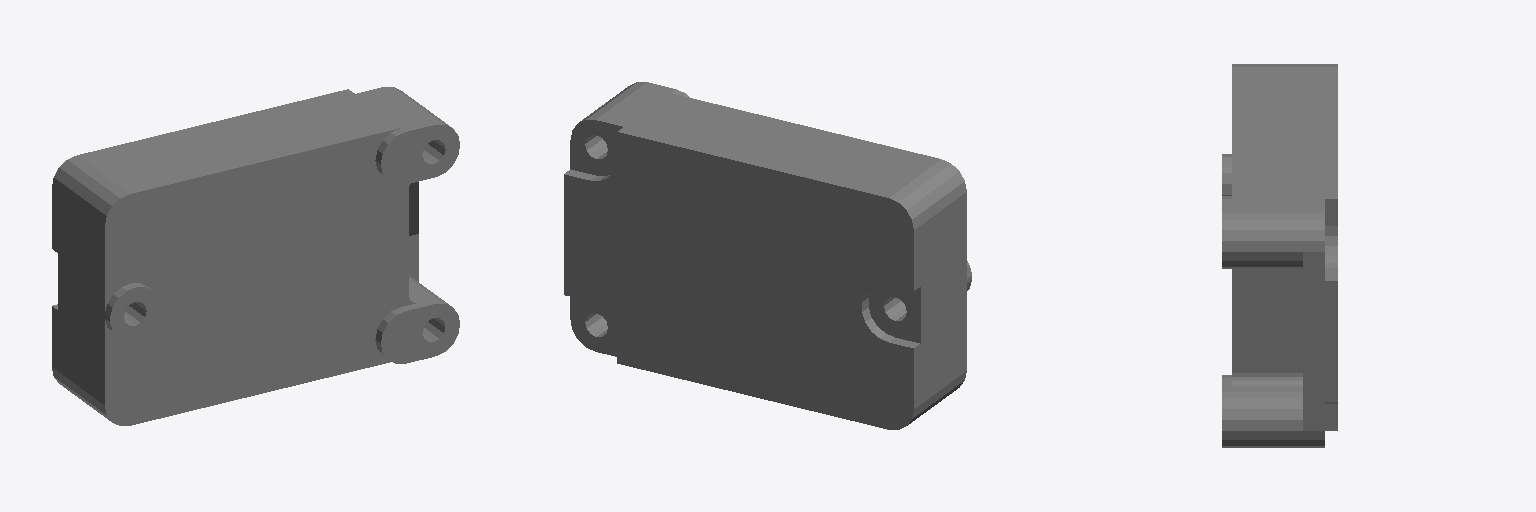
File: solo_12_base_18.obj
3 renders of one model, left to right at view 1: azimuth 30°, elevation 25°; view 2: azimuth 150°, elevation 25°; view 3: azimuth 270°, elevation 25°, orthographic.
Size of the model in its own units: 0.0381 by 0.0241 by 0.011.